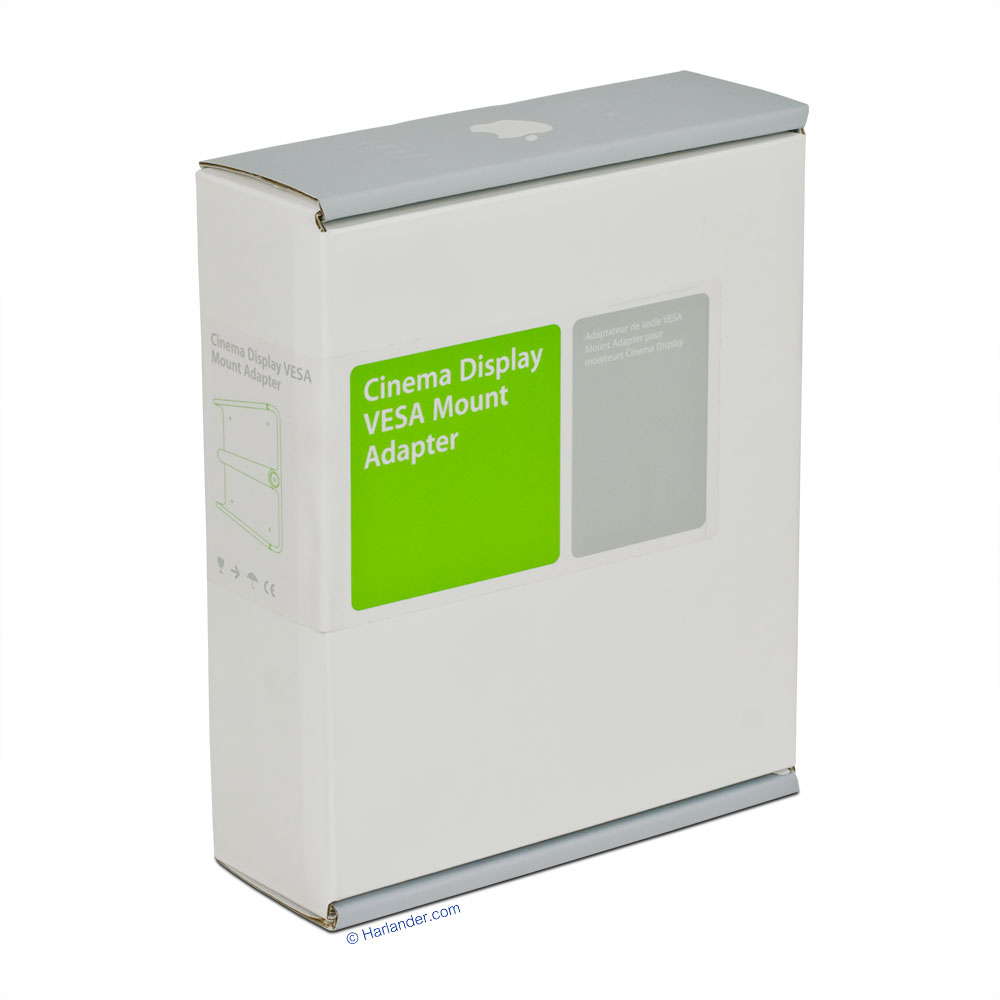Apple: (459, 109, 563, 154)
